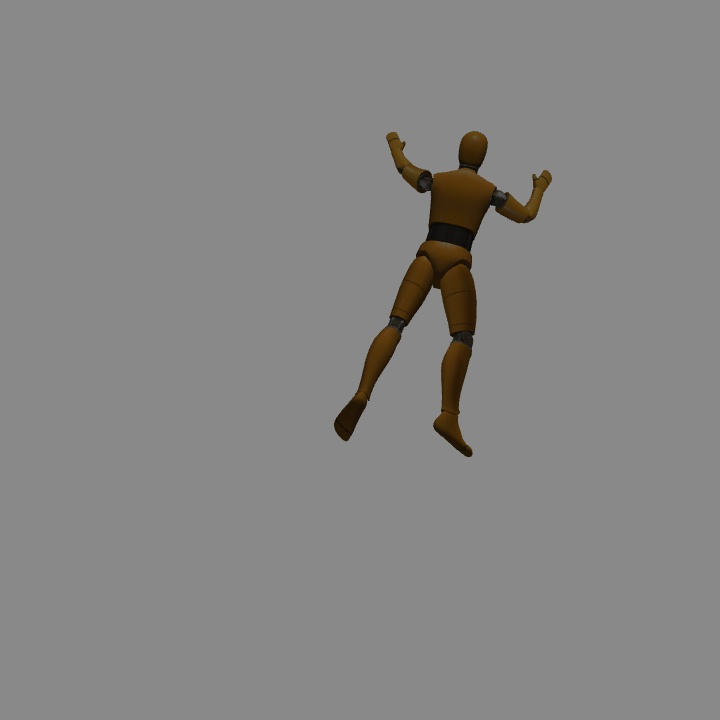victim: (386, 128, 550, 456)
